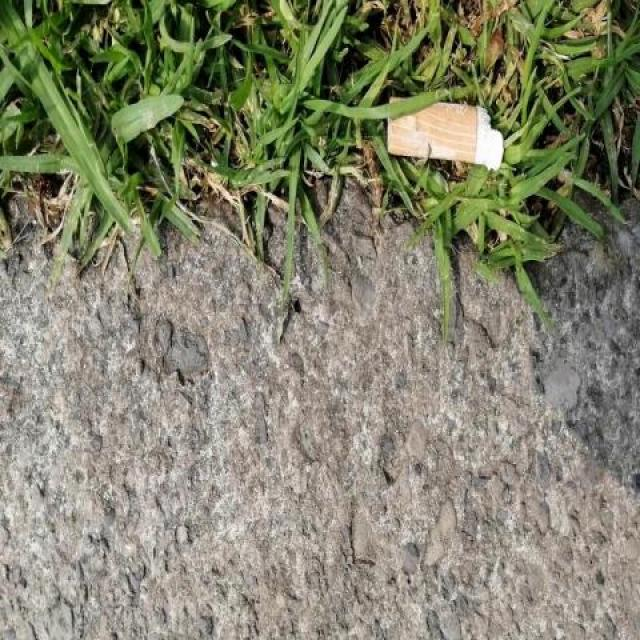non-organic waste: (383, 90, 509, 170)
